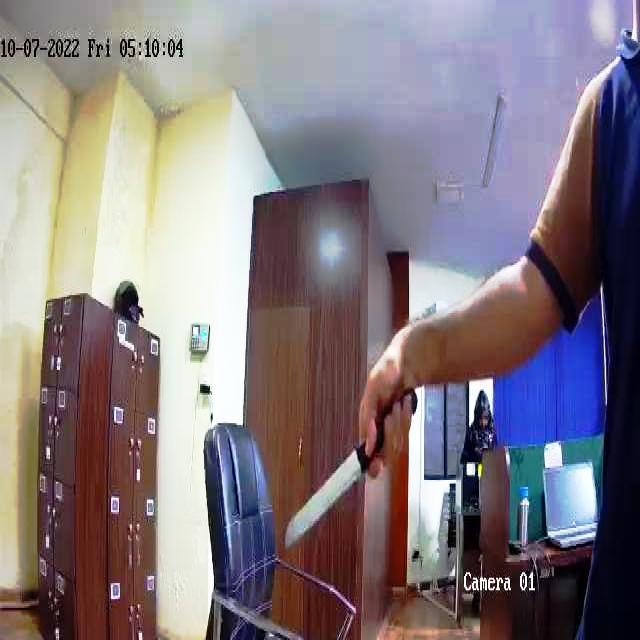Knife: (287, 392, 421, 550)
